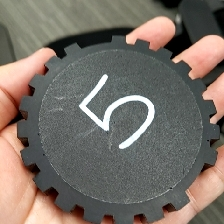gear: (15, 34, 222, 224)
missing: (169, 146, 219, 213), (64, 34, 128, 59)
